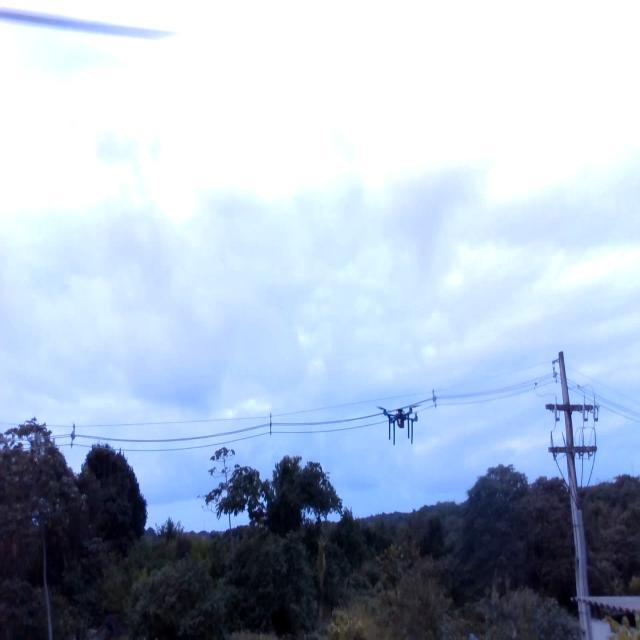-uav-: (369, 390, 428, 458)
